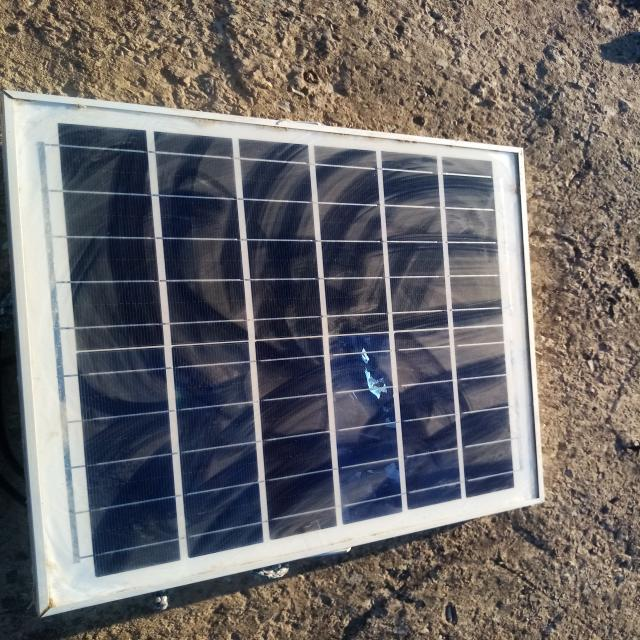faulty: (16, 95, 544, 614)
